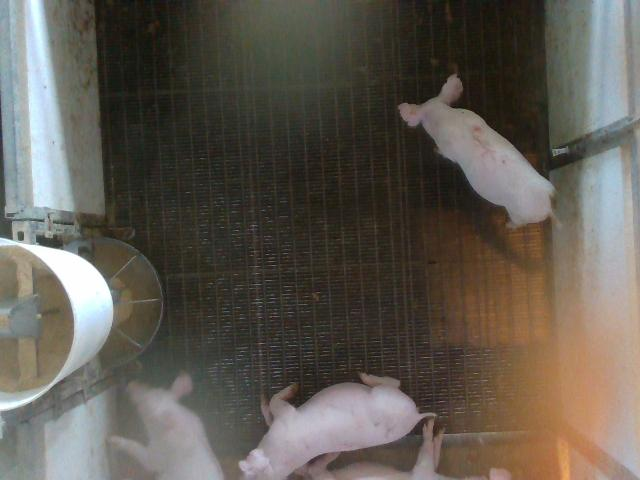pig-5: (398, 75, 555, 228)
